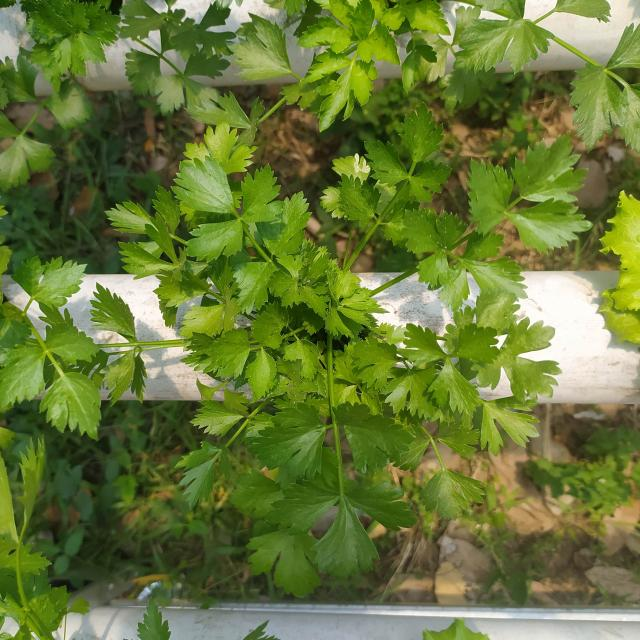Wet Waste: (120, 62, 602, 636), (3, 183, 110, 364)
